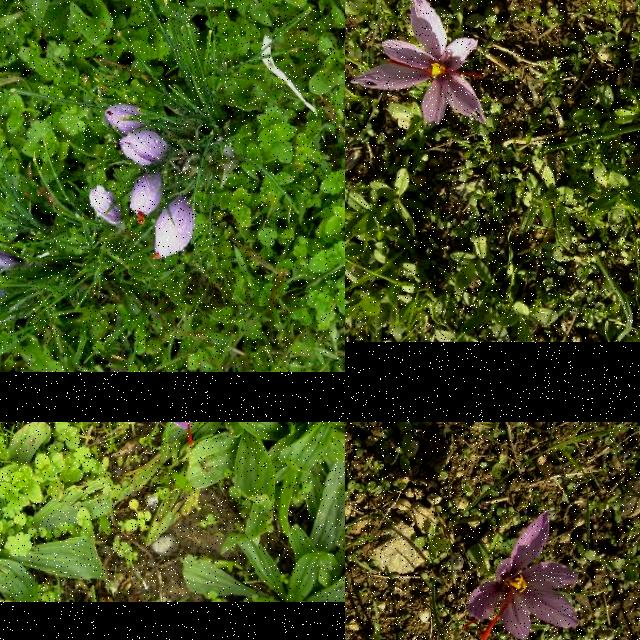flower: (352, 0, 489, 125), (462, 509, 579, 640), (154, 196, 194, 264), (169, 422, 265, 445), (128, 170, 166, 226), (119, 130, 170, 167), (106, 104, 146, 134), (91, 186, 121, 224), (0, 242, 29, 269)
